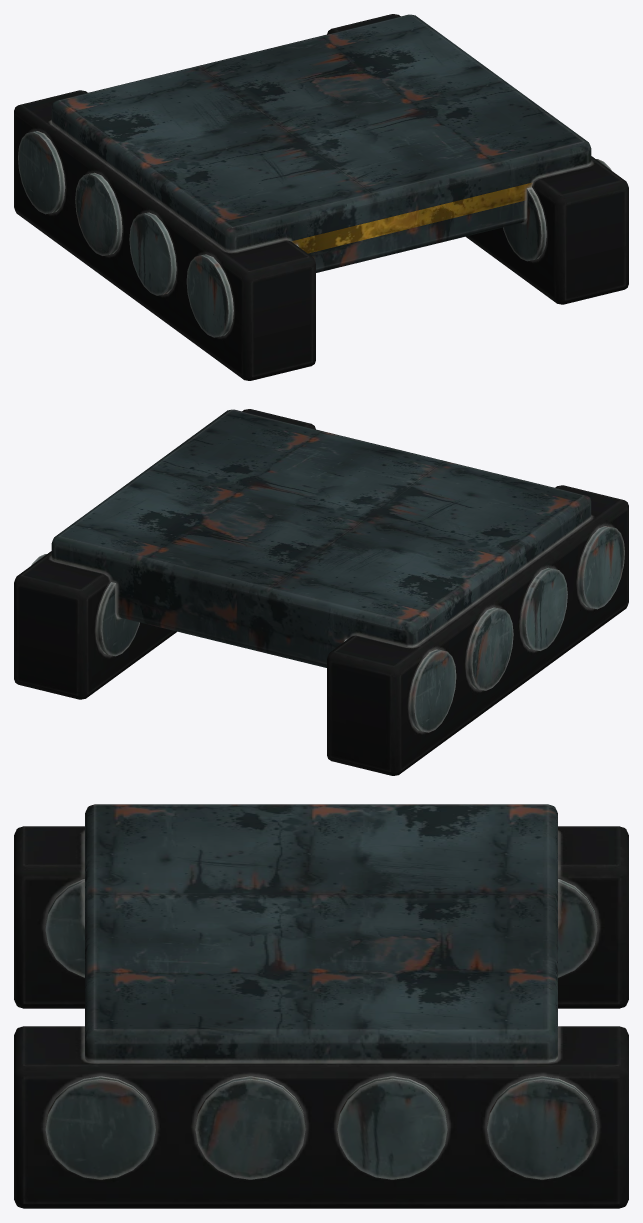
Rendered from tracks.glb.
3 renders of one model, top to bottom at view 1: azimuth 30°, elevation 25°; view 2: azimuth 150°, elevation 25°; view 3: azimuth 270°, elevation 25°, orthographic. The views are drawn at different scales.
Visible parts, largest first — view 1: te_tracks; view 2: te_tracks; view 3: te_tracks.
Boxes of the visible parts, box(x1,y1,x2,y2) form: te_tracks: box(14, 14, 628, 380); te_tracks: box(14, 409, 628, 775); te_tracks: box(14, 804, 628, 1208).
Size of the model in its own units: 0.76 by 0.24 by 0.78.
1 material, 1 textured.
